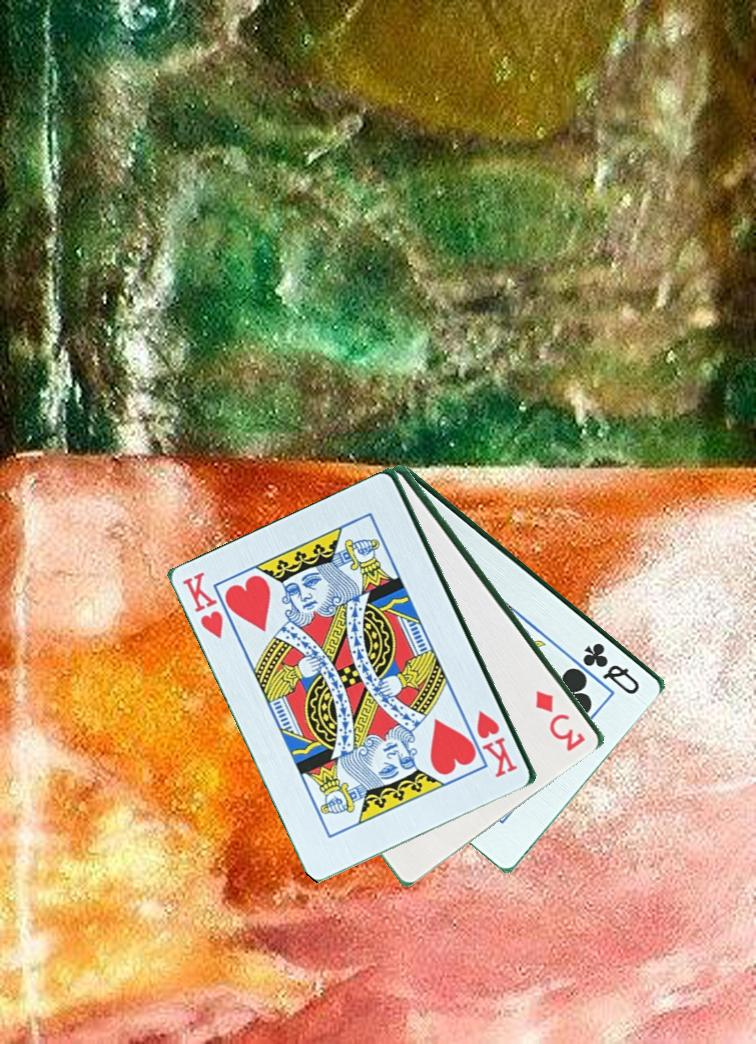3d: (532, 686, 589, 753)
kh: (179, 568, 228, 642), (473, 705, 521, 780)
qc: (580, 639, 644, 698)
